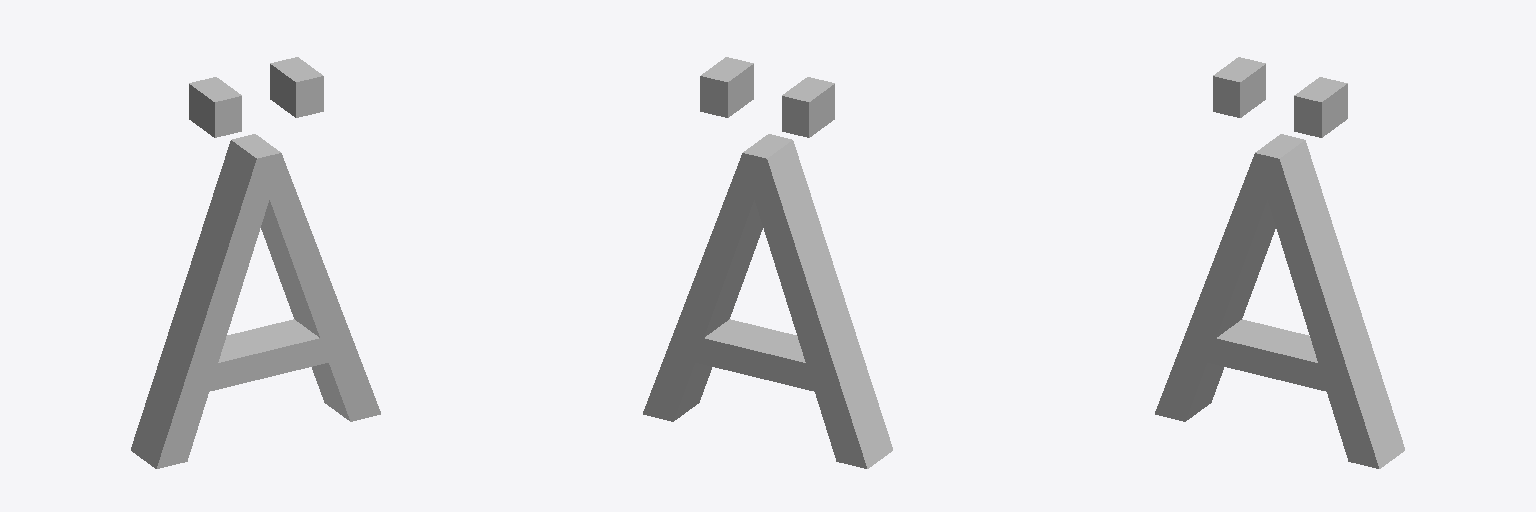
File: AE Kopie.obj
3 views of the same model, side by side, from view 1: azimuth 30°, elevation 25°; view 2: azimuth 150°, elevation 25°; view 3: azimuth 330°, elevation 25° (orthographic).
Size of the model in its own units: 66.47 by 99.43 by 13.29.